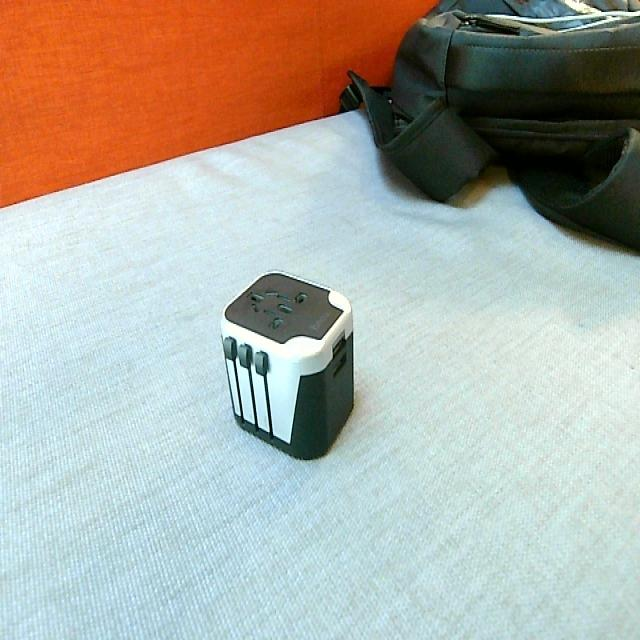adapter: (219, 269, 354, 460)
